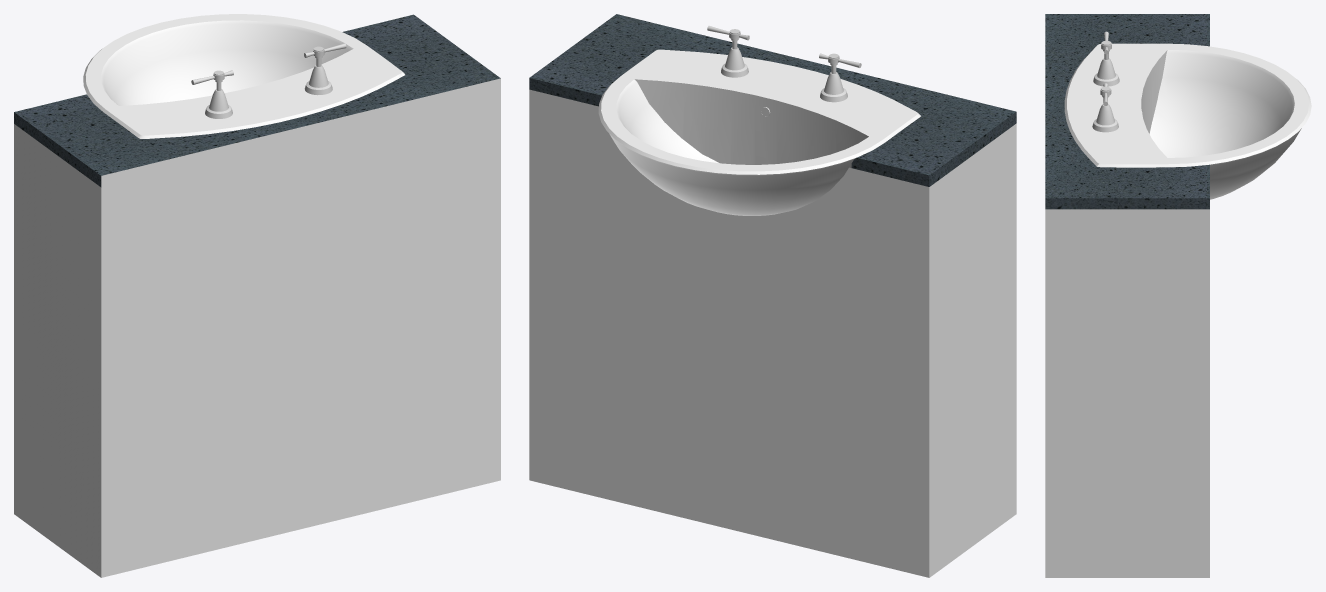
Rendered from lavabo.glb.
3 views of the same model, side by side, from view 1: azimuth 30°, elevation 25°; view 2: azimuth 150°, elevation 25°; view 3: azimuth 270°, elevation 25° (orthographic). The views are drawn at different scales.
Visible parts, largest first — view 1: 340 Vanity#1, Basin - Duravit - Dellarco, Tap - Pheonix - Prelude Lever (×2); view 2: 340 Vanity#1, Basin - Duravit - Dellarco, Tap - Pheonix - Prelude Lever (×2); view 3: 340 Vanity#1, Basin - Duravit - Dellarco, Tap - Pheonix - Prelude Lever (×2).
Part boxes in pixels (x1,y1,x2,y2): 340 Vanity#1: [14, 14, 500, 577]; Basin - Duravit - Dellarco: [83, 14, 404, 138]; Tap - Pheonix - Prelude Lever (×2): [191, 43, 346, 118]; 340 Vanity#1: [529, 14, 1016, 577]; Basin - Duravit - Dellarco: [598, 49, 920, 215]; Tap - Pheonix - Prelude Lever (×2): [707, 26, 861, 102]; 340 Vanity#1: [1045, 14, 1209, 577]; Basin - Duravit - Dellarco: [1064, 43, 1311, 199]; Tap - Pheonix - Prelude Lever (×2): [1092, 31, 1119, 132].
Size of what is drawn, in the model's own units: 0.9 by 0.9571 by 0.55.
7 materials, 2 textured.
